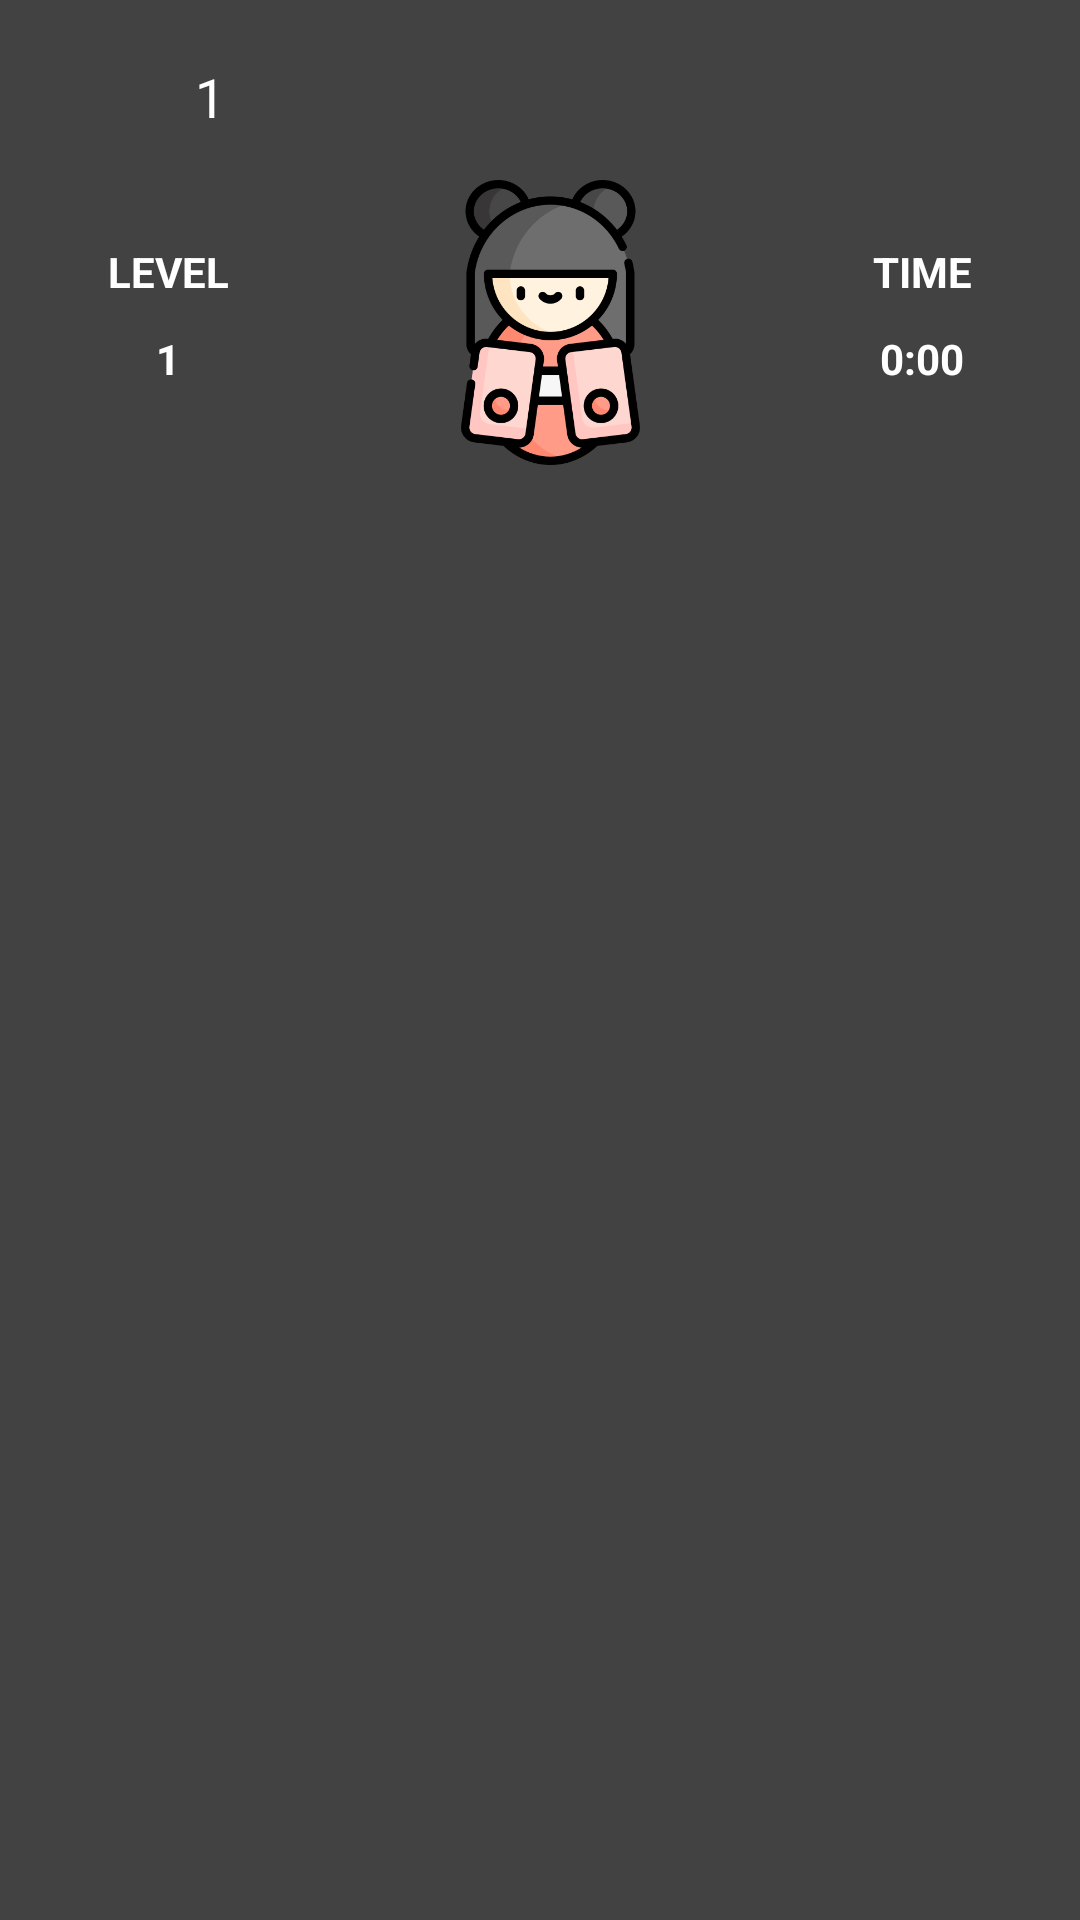

Icons on this 1080 x 1920 Android screen, each with the point to tap as (x,y):
kokeshi: (550,322)
